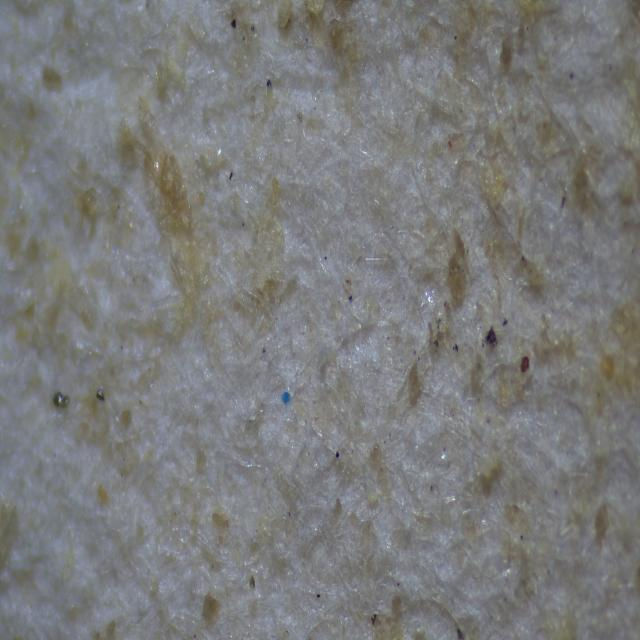microplastic: (280, 391, 293, 404)
